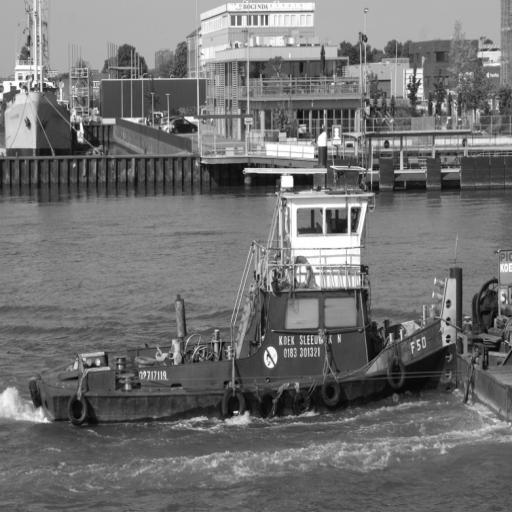tugboat: (27, 146, 474, 438)
